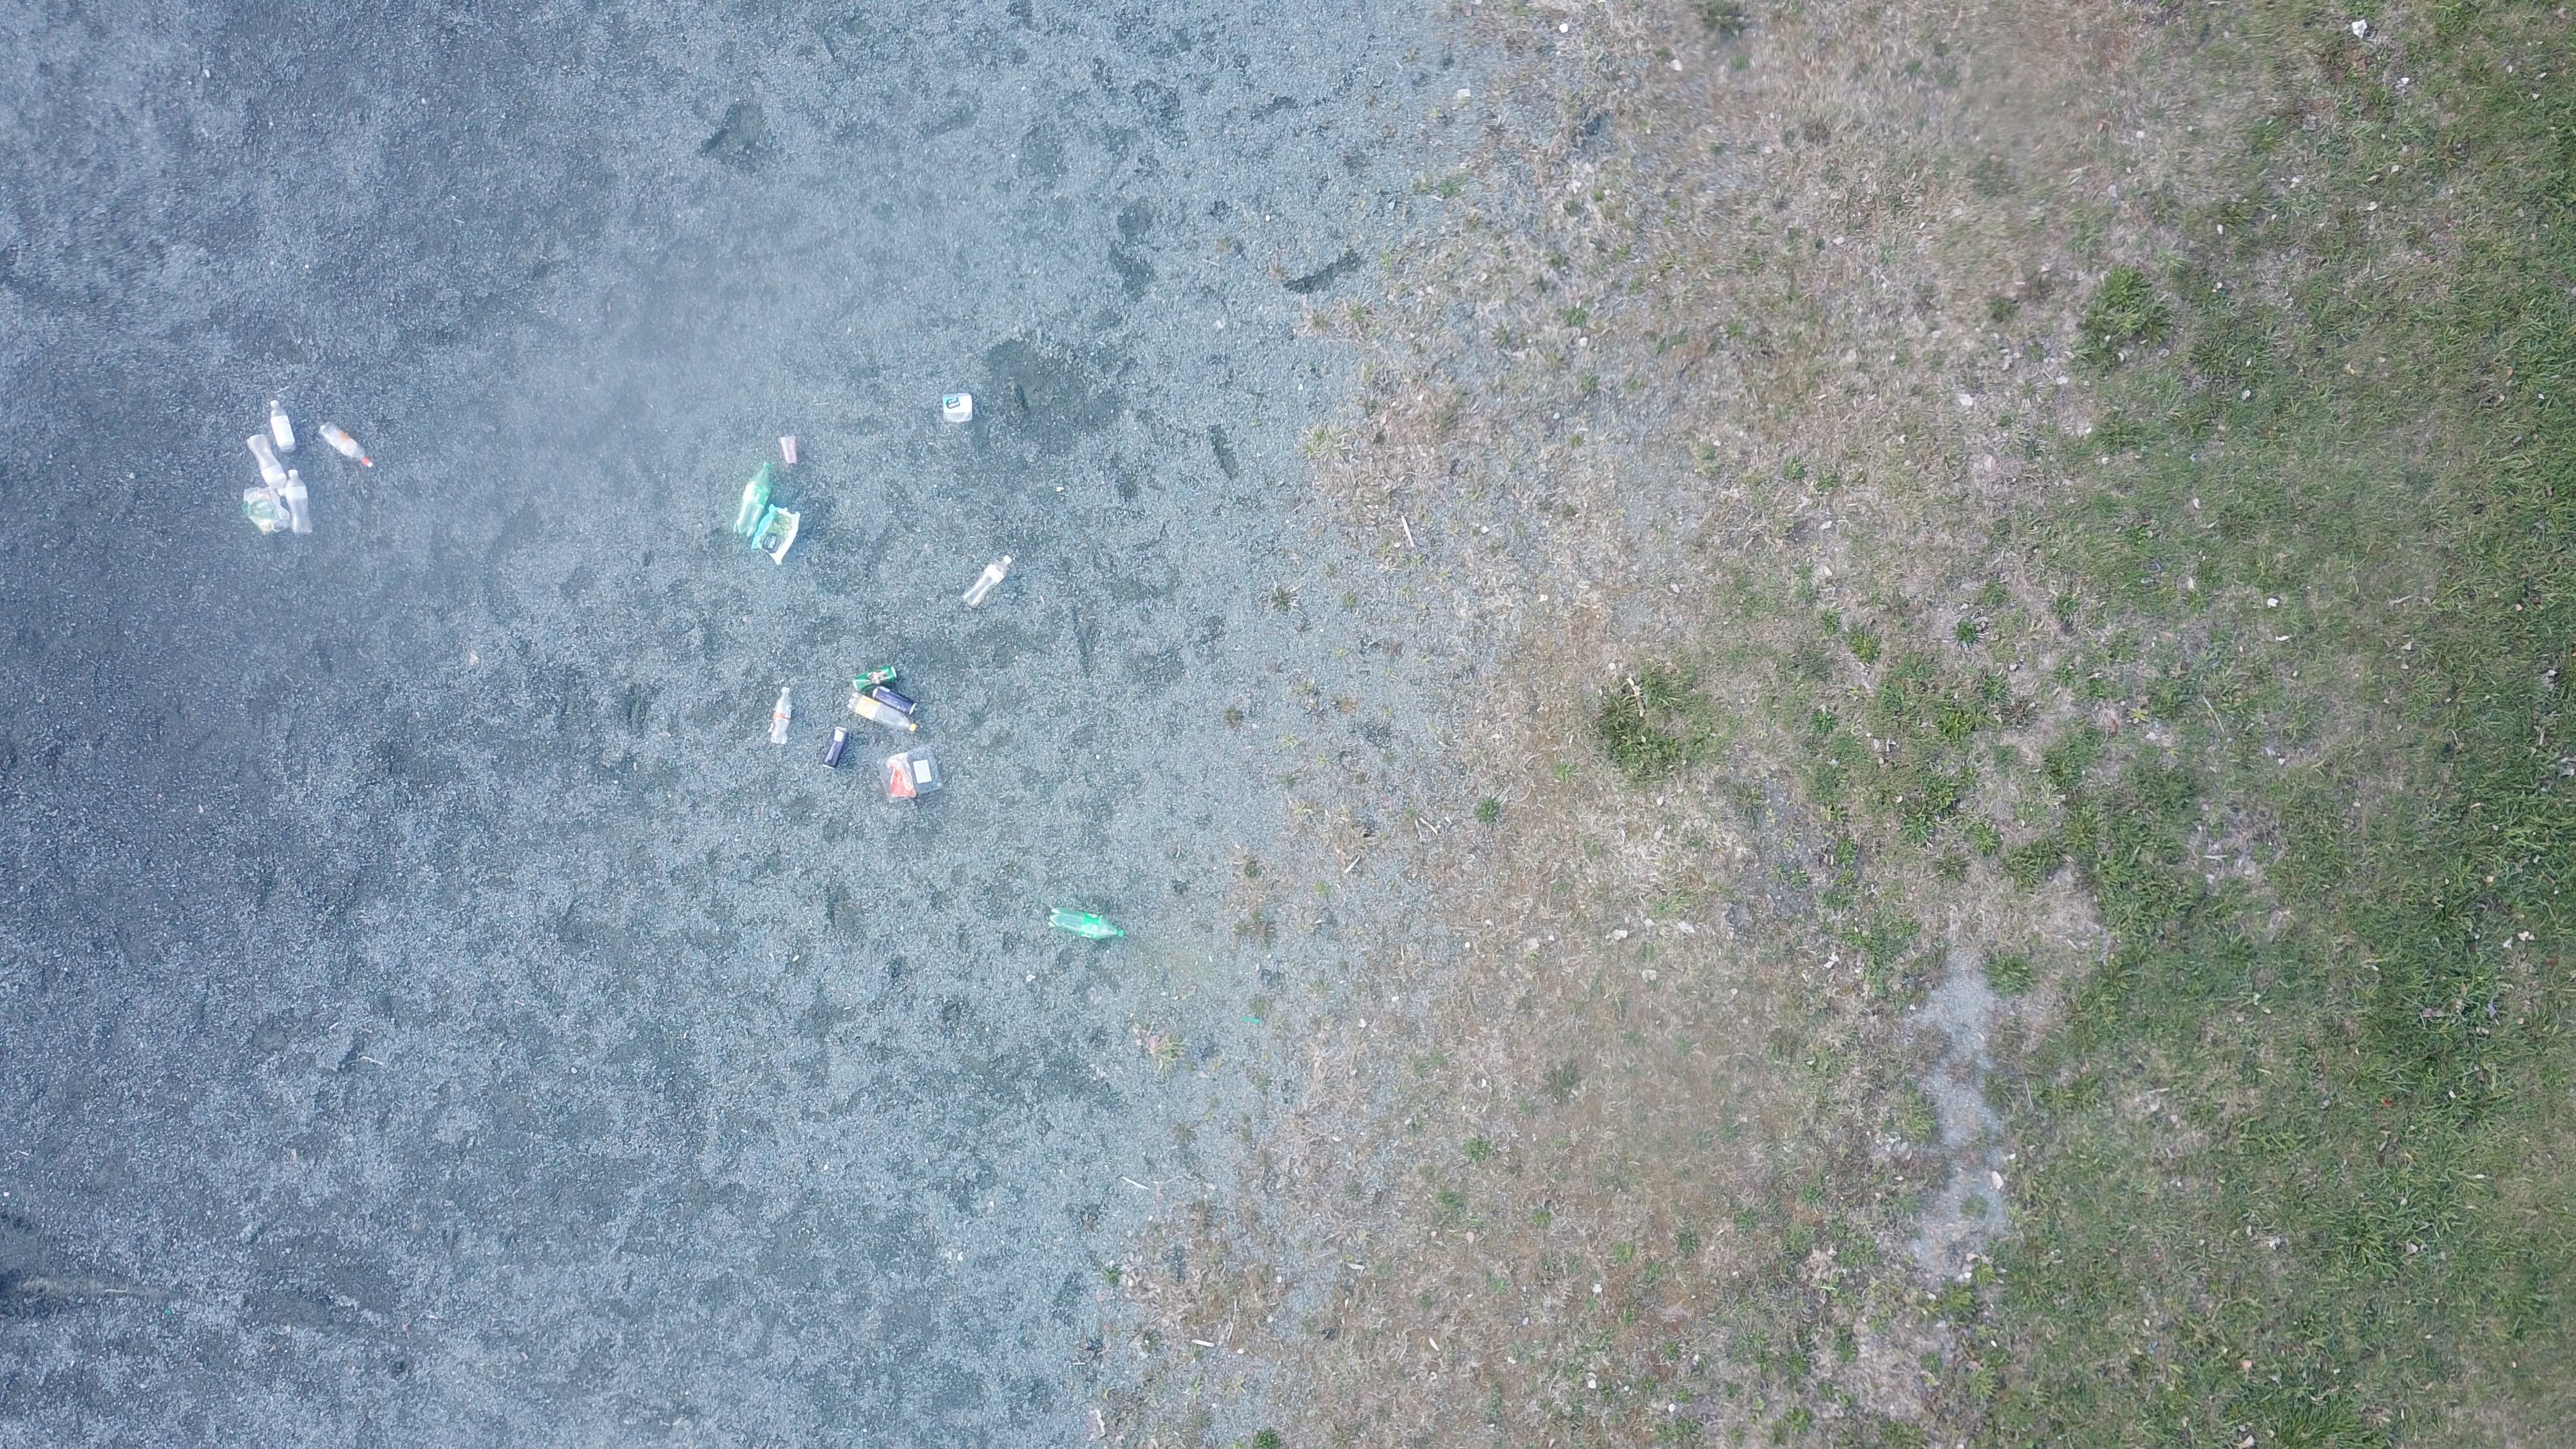Can: (872, 686, 918, 715), (853, 665, 897, 692), (823, 727, 849, 770)
Plastic: (878, 745, 945, 805), (750, 502, 800, 566), (244, 487, 292, 536), (943, 393, 973, 423), (778, 435, 800, 465)
PlasticBottle: (846, 694, 918, 732), (317, 423, 377, 469), (734, 462, 771, 536), (962, 556, 1010, 609), (246, 435, 287, 497), (1049, 909, 1127, 939), (285, 471, 315, 534), (269, 400, 299, 453), (771, 686, 793, 743)
